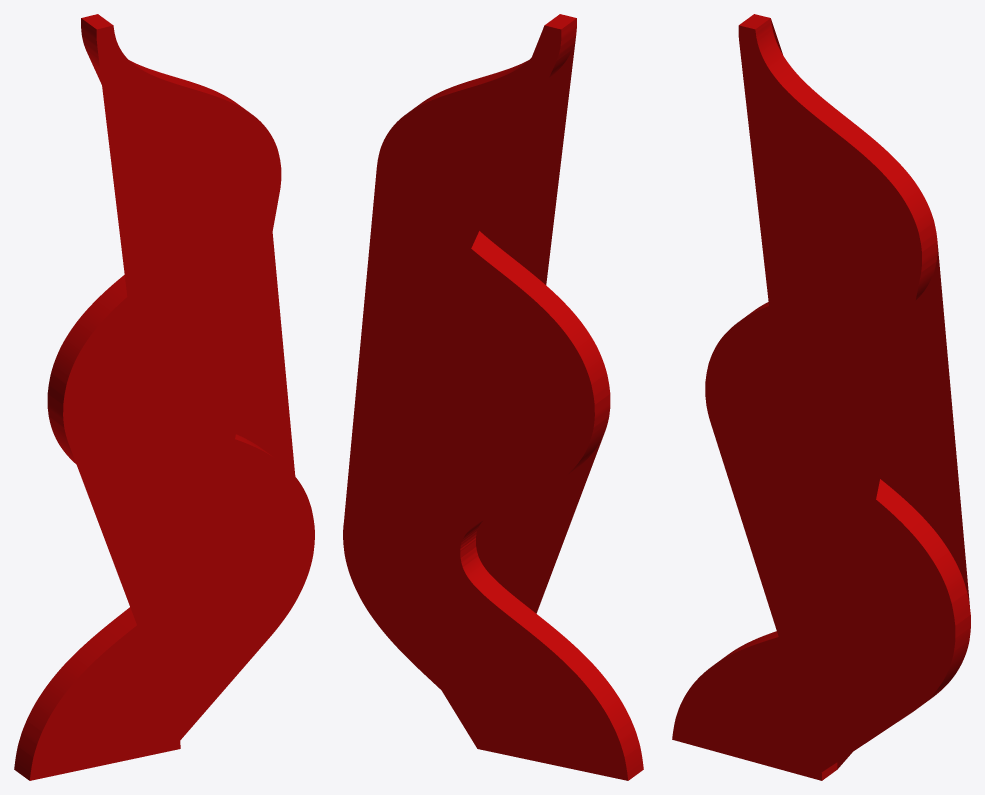
The model's file is symbol_fire.FBX.
3 renders of one model, left to right at view 1: azimuth 30°, elevation 25°; view 2: azimuth 150°, elevation 25°; view 3: azimuth 330°, elevation 25°, orthographic.
Visible parts, largest first — view 1: Layer:Layer 1; view 2: Layer:Layer 1; view 3: Layer:Layer 1.
Part boxes in pixels (x1,y1,x2,y2): Layer:Layer 1: [14, 14, 314, 780]; Layer:Layer 1: [343, 14, 643, 780]; Layer:Layer 1: [672, 14, 970, 780].
Size of the model in its own units: 2.6 by 6.45 by 0.2464.
